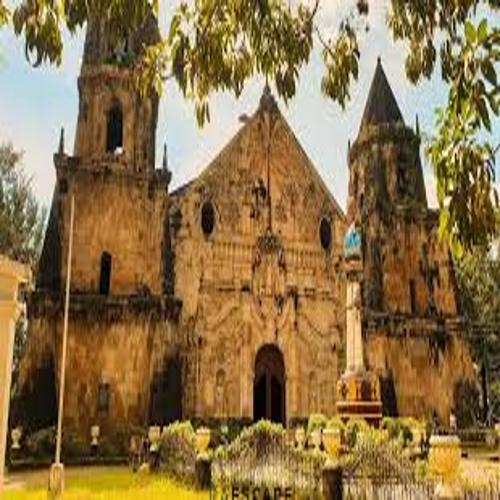Miagao Church: (31, 1, 468, 446)
